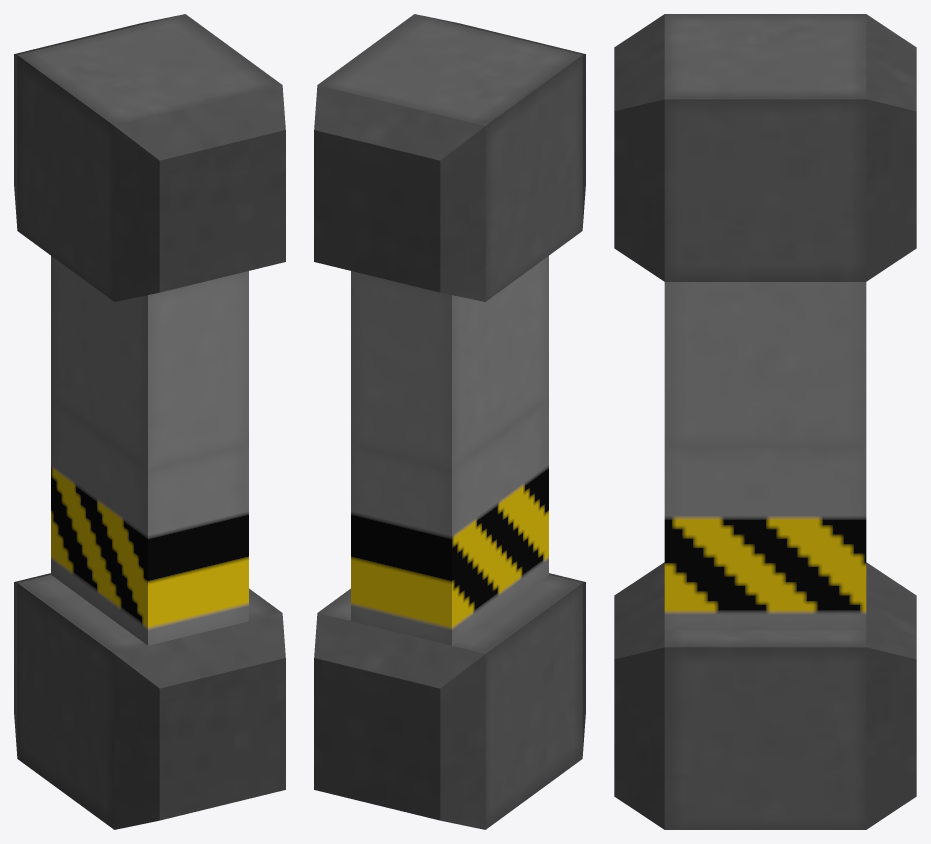
Rendered from blast_door_legacy.obj.
3 renders of one model, left to right at view 1: azimuth 30°, elevation 25°; view 2: azimuth 150°, elevation 25°; view 3: azimuth 270°, elevation 25°, orthographic. The views are drawn at different scales.
Visible parts, largest first — view 1: Block, Base, Tooth, Slider; view 2: Block, Base, Tooth, Slider; view 3: Block, Base, Tooth, Slider.
Part boxes in pixels (bbox=[...]): Block: bbox=[14, 14, 285, 301]; Base: bbox=[14, 573, 285, 829]; Tooth: bbox=[51, 399, 248, 645]; Slider: bbox=[51, 256, 248, 469]; Block: bbox=[314, 14, 585, 301]; Base: bbox=[314, 573, 585, 829]; Tooth: bbox=[351, 399, 548, 645]; Slider: bbox=[351, 256, 548, 469]; Block: bbox=[614, 14, 916, 281]; Base: bbox=[614, 562, 916, 829]; Tooth: bbox=[664, 447, 866, 630]; Slider: bbox=[664, 282, 866, 447].
Bounding box in the file's own units: 1 × 4 × 1.5.
Materials: 4 (4 with a texture image).
